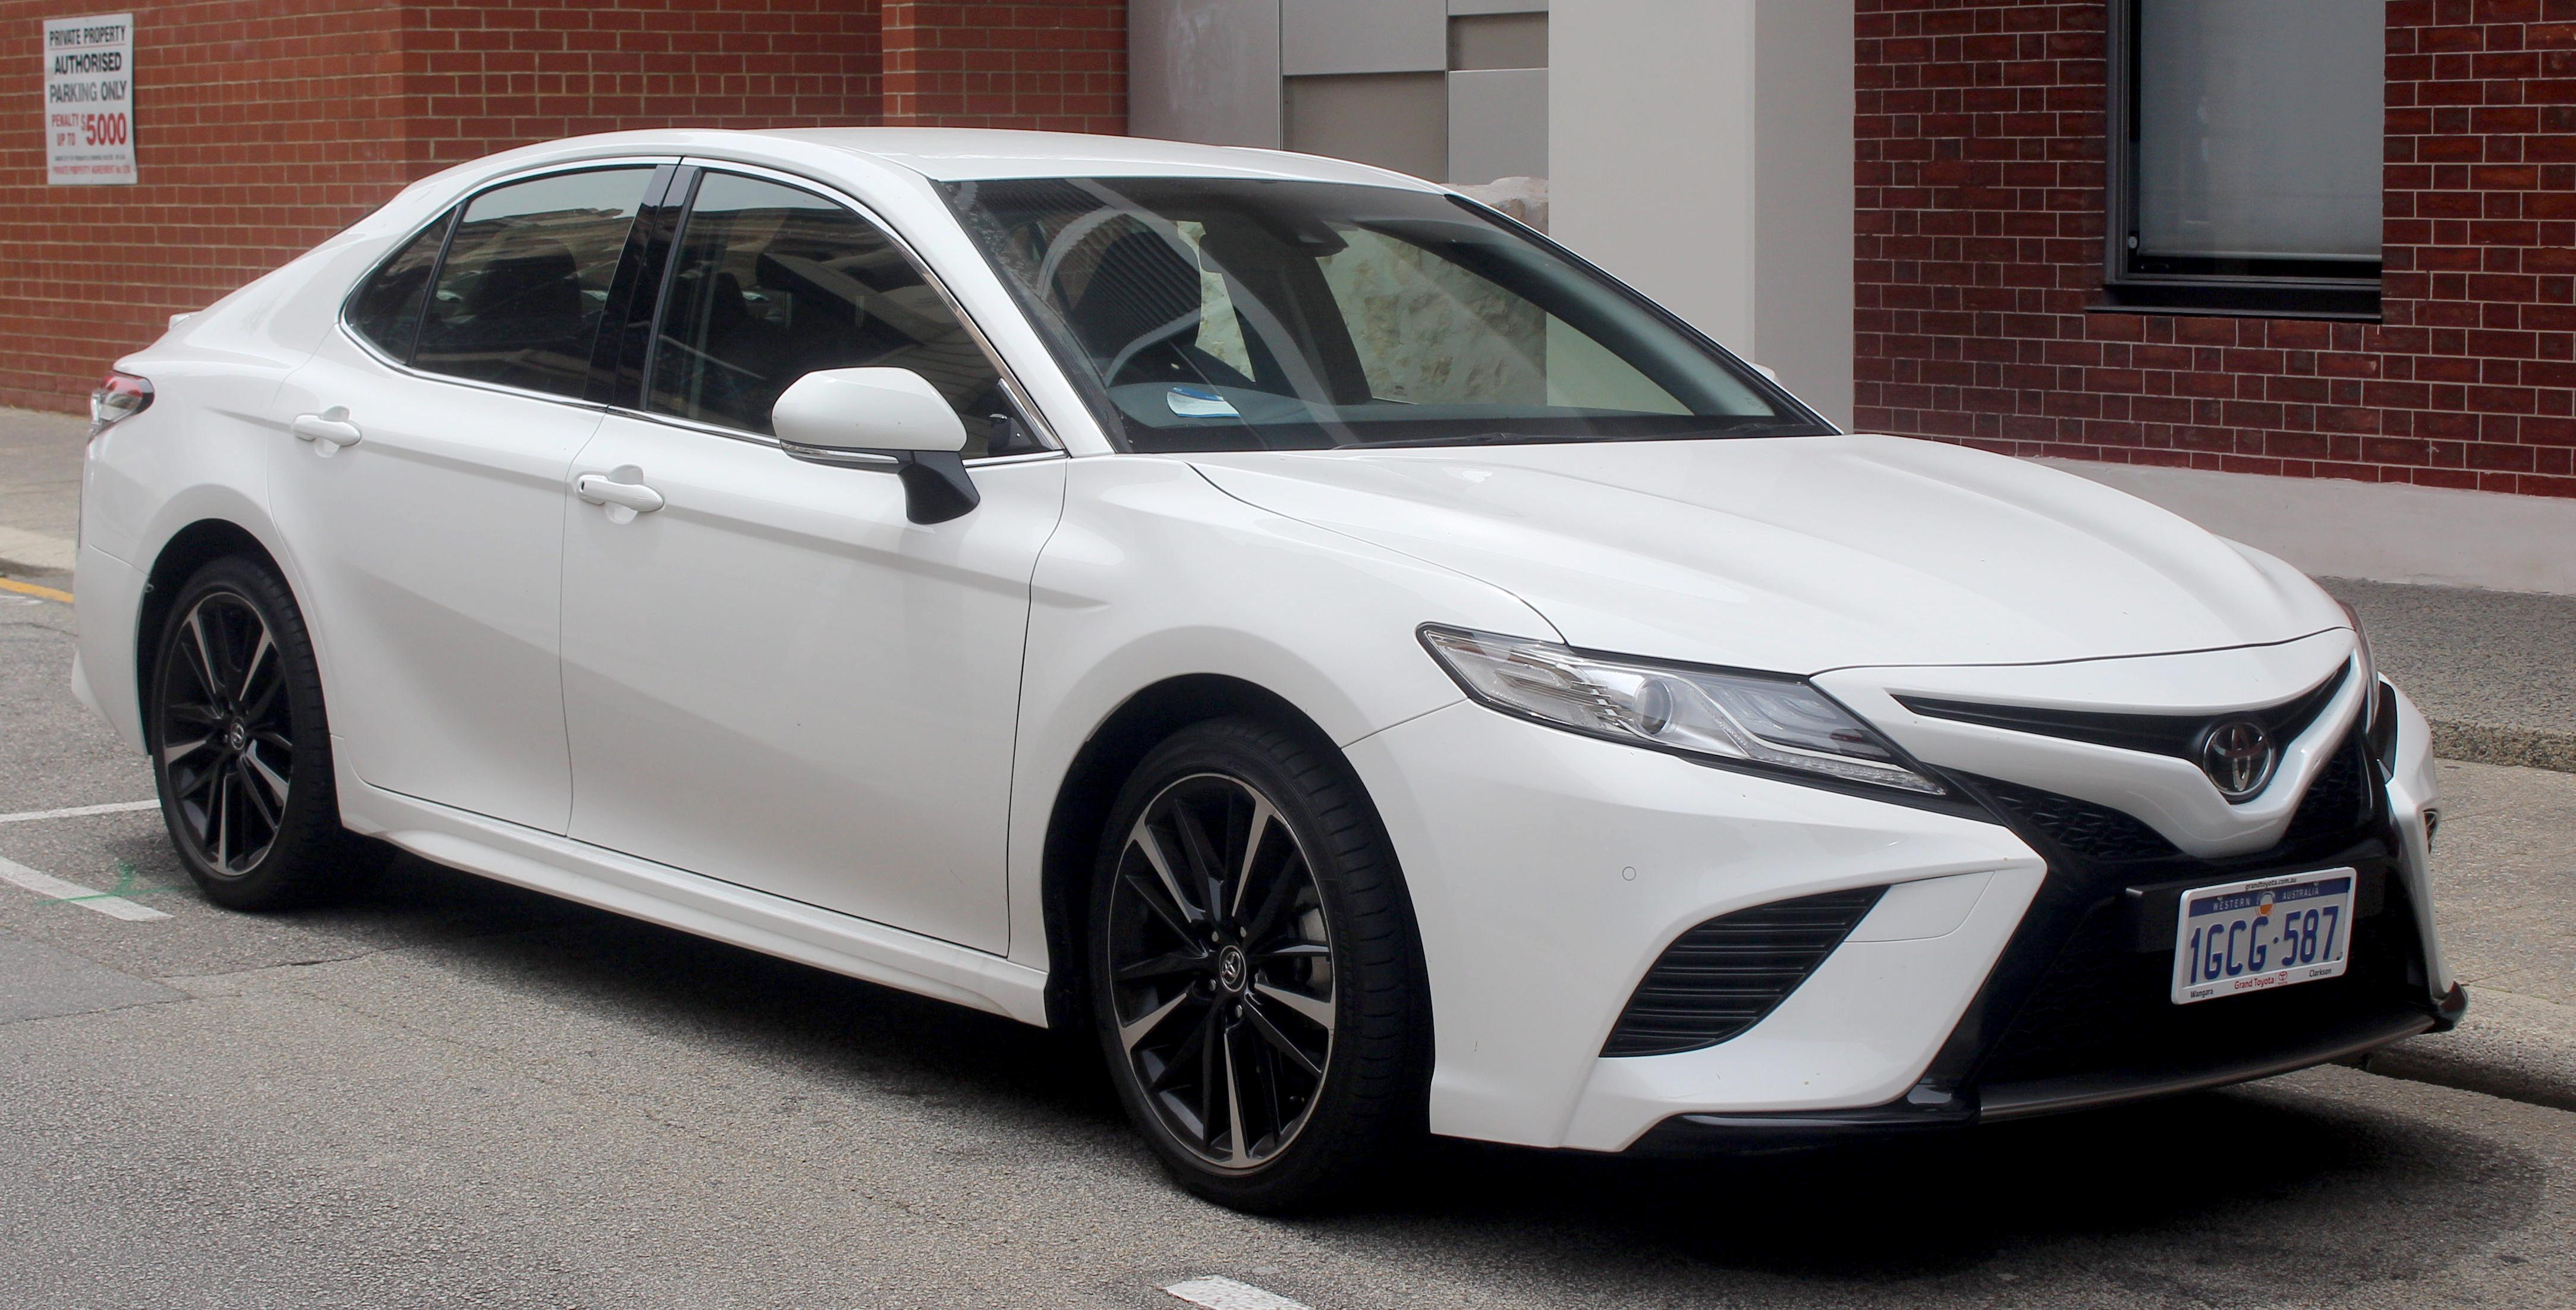car: (42, 120, 2492, 1191)
